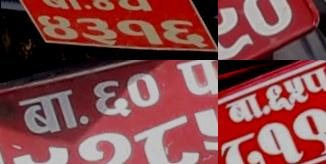0: (14, 83, 83, 144), (235, 0, 302, 42)
1: (72, 123, 141, 164), (251, 113, 303, 164), (113, 7, 164, 58)
3: (73, 4, 121, 56)
4: (89, 74, 134, 122), (33, 5, 80, 50), (190, 90, 218, 163), (86, 0, 116, 15)
5: (282, 71, 311, 105)
6: (156, 5, 210, 58), (262, 79, 291, 113)
8: (174, 60, 218, 102), (218, 129, 268, 164)
9: (218, 0, 257, 60), (287, 100, 326, 158)
ba: (222, 91, 263, 126), (37, 0, 82, 19)
cha: (120, 63, 166, 113), (108, 0, 155, 19)
lu: (9, 138, 80, 164)
pa: (130, 109, 201, 164), (298, 62, 326, 94)
